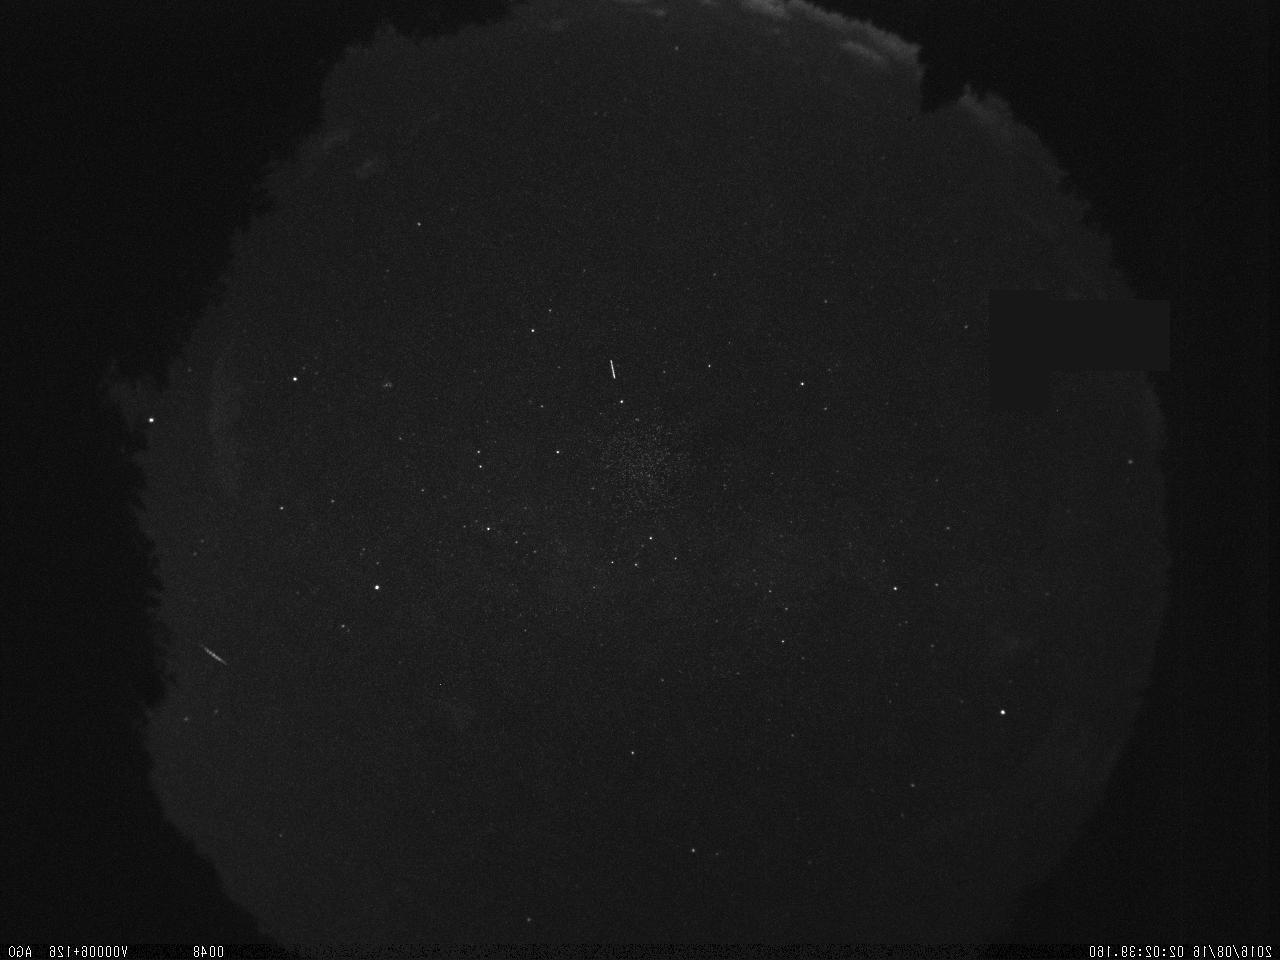meteor: (603, 353, 623, 385)
